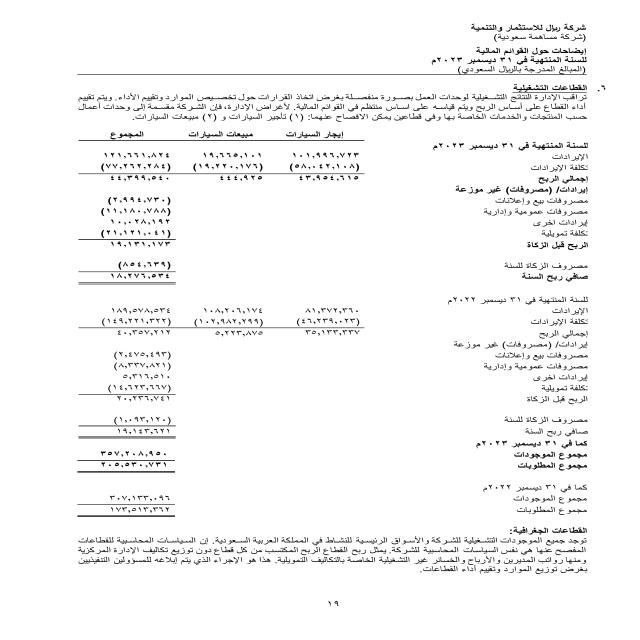notes: (470, 46, 591, 56)
table: (23, 121, 374, 525)
